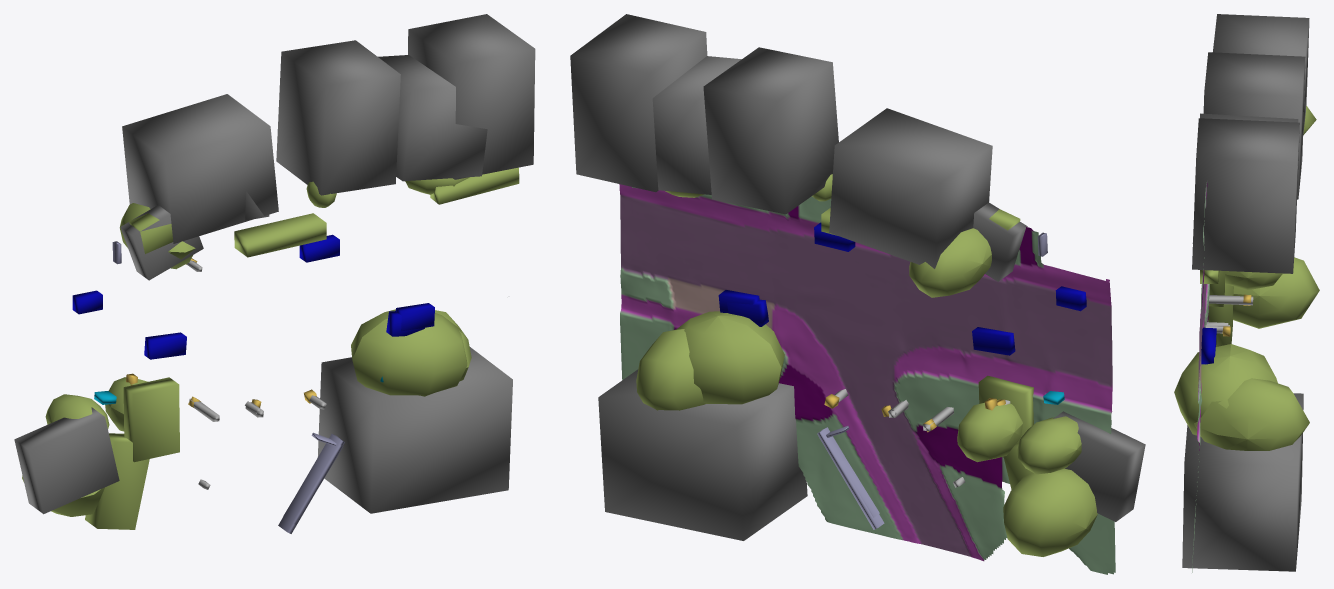
3 views of the same model, side by side, from view 1: azimuth 30°, elevation 25°; view 2: azimuth 150°, elevation 25°; view 3: azimuth 270°, elevation 25° (orthographic). The views are drawn at different scales.
Bounding box in the file's own units: 67.57 × 56.63 × 17.01.
